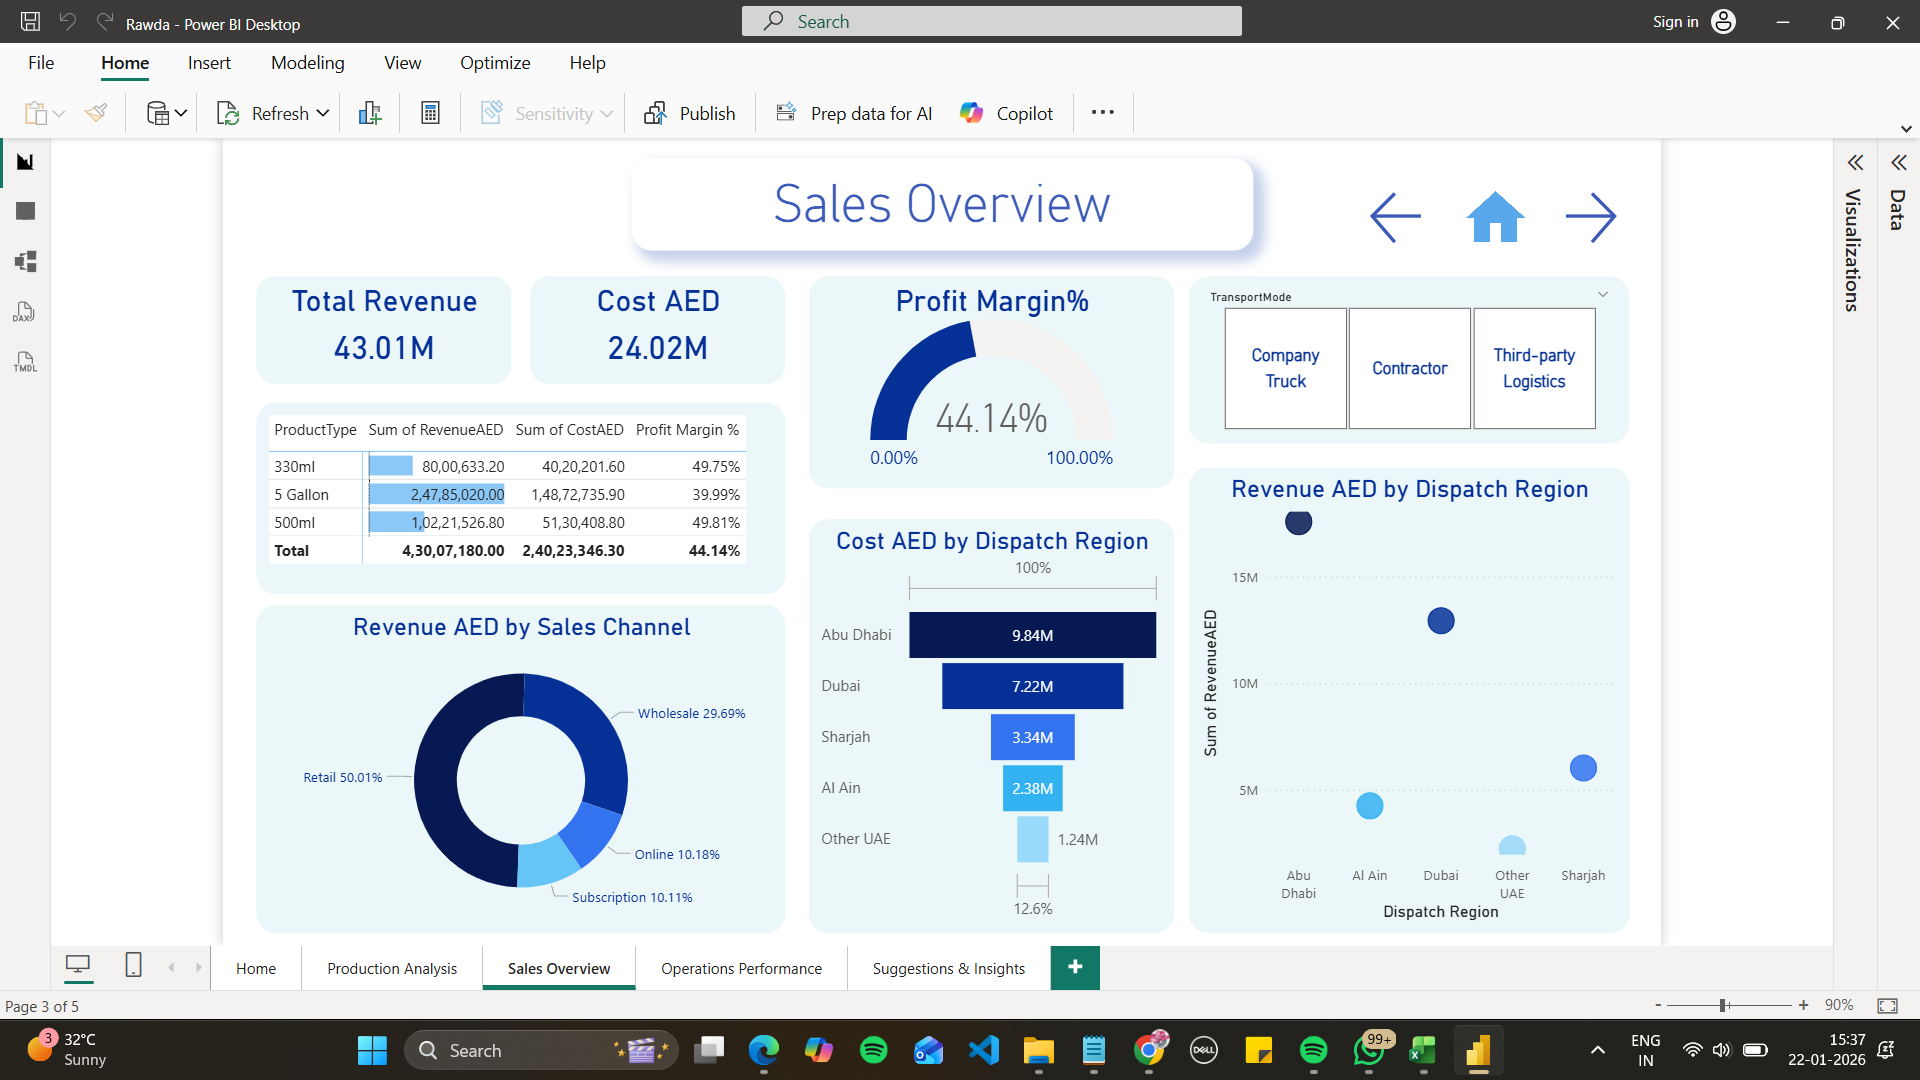

What the dashboard file says about the page in this screenshot:
{"tool":"powerbi","page":{"name":"Sales Overview","canvas":[1280,720],"ordinal":2},"visuals":[{"type":"image","box":[1105.1,42.2,55.5,57.9],"z":0},{"type":"actionButton","box":[1188.8,42.5,73.8,57.5],"z":1000},{"type":"textbox","box":[363.8,17.5,553.8,82.5],"z":2000},{"type":"slicer","fields":{"Values":["Rawda_procudtion_sales.TransportMode"]},"box":[859.3,122.2,393.8,150.6],"z":3000},{"type":"actionButton","box":[1016.2,42.5,81.2,57.5],"z":4000},{"type":"card","title":"Total Revenue","fields":{"Values":["Rawda_procudtion_sales.Total Revenue"]},"box":[28.8,122.5,228.8,97.5],"z":5000},{"type":"gauge","title":"Profit Margin%","fields":{"Y":["Rawda_procudtion_sales.Profit Margin %"]},"box":[521,122.2,327.2,190.1],"z":6000},{"type":"card","title":"Cost AED","fields":{"Values":["Rawda_procudtion_sales.CostAED"]},"box":[272.5,122.5,228.8,97.5],"z":7000},{"type":"donutChart","title":"Revenue AED by Sales Channel","fields":{"Category":["Rawda_procudtion_sales.SalesChannel"],"Y":["Rawda_procudtion_sales.RevenueAED"]},"box":[28.4,414.8,472.8,293.8],"z":8000},{"type":"scatterChart","title":"Revenue AED by Dispatch Region","fields":{"Y":["Rawda_procudtion_sales.RevenueAED"],"X":["Rawda_procudtion_sales.DispatchRegion"]},"box":[859.4,292.8,394.1,416.3],"z":9000},{"type":"pivotTable","fields":{"Rows":["Rawda_procudtion_sales.ProductType"],"Values":["Rawda_procudtion_sales.RevenueAED","Rawda_procudtion_sales.CostAED","Rawda_procudtion_sales.Profit Margin %"]},"box":[28.4,234.6,472.8,171.6],"z":10000},{"type":"funnel","title":"Cost AED by Dispatch Region","fields":{"Category":["Rawda_procudtion_sales.DispatchRegion"],"Y":["Rawda_procudtion_sales.CostAED"]},"box":[521,338.3,327.2,370.4],"z":11000}]}

Visuals, with their boxes on the page's 1280x720 design canvas (x1, y1, x2, y2). These are canvas units, not pixel positions in the 1920x1080 screenshot, which may show the page scaled, cropped or inside an application window:
image: Rect(1105, 42, 1161, 100)
actionButton: Rect(1189, 42, 1263, 100)
textbox: Rect(364, 18, 918, 100)
slicer - Rawda_procudtion_sales.TransportMode: Rect(859, 122, 1253, 273)
actionButton: Rect(1016, 42, 1097, 100)
"Total Revenue" card: Rect(29, 122, 258, 220)
"Profit Margin%" gauge: Rect(521, 122, 848, 312)
"Cost AED" card: Rect(272, 122, 501, 220)
"Revenue AED by Sales Channel" donutChart: Rect(28, 415, 501, 709)
"Revenue AED by Dispatch Region" scatterChart: Rect(859, 293, 1254, 709)
pivotTable - Rawda_procudtion_sales.ProductType x Rawda_procudtion_sales.RevenueAED: Rect(28, 235, 501, 406)
"Cost AED by Dispatch Region" funnel: Rect(521, 338, 848, 709)
